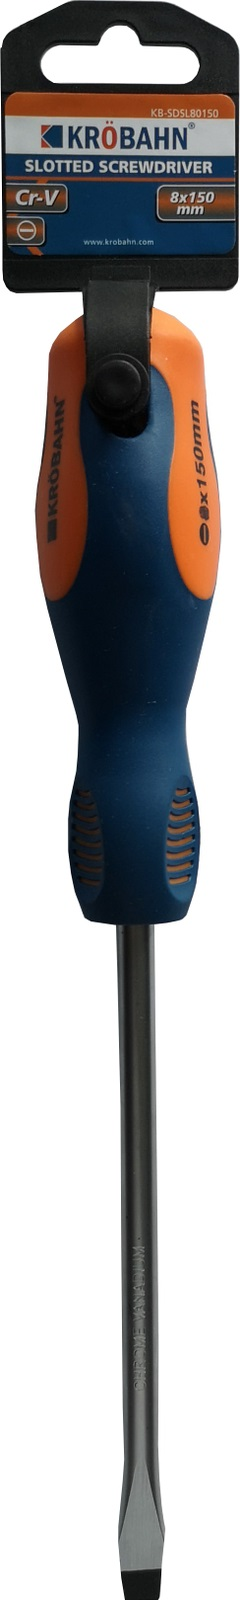screwdriver: (26, 307, 226, 1591)
